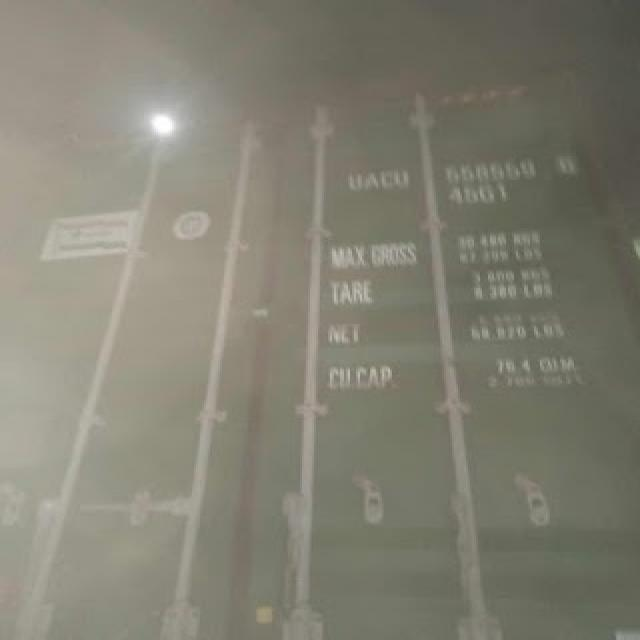ISO: (436, 185, 509, 208)
container_number: (335, 159, 583, 188)
